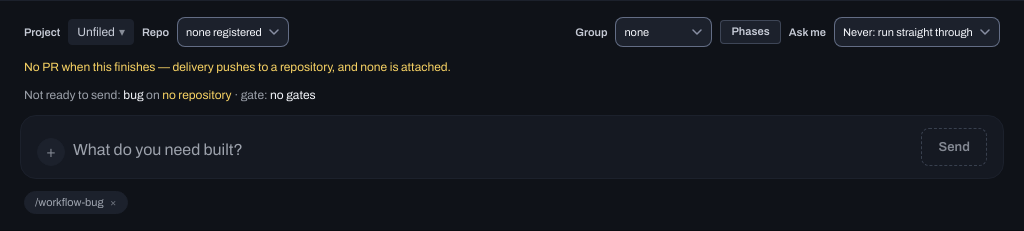
Test case: MED-2b/2c — ChatInput: revisesPr gating and the F-089 no-repo shape › F-089: a BUILD workflow bound with NO repository attached — Send is ENABLED and the line says "Ready to send" (they never disagree)
The image size is (1024, 231).
Type "fix the flaky retry test" into the text box with test id "launch-problem" at point(493, 152), box [73,138,914,166]
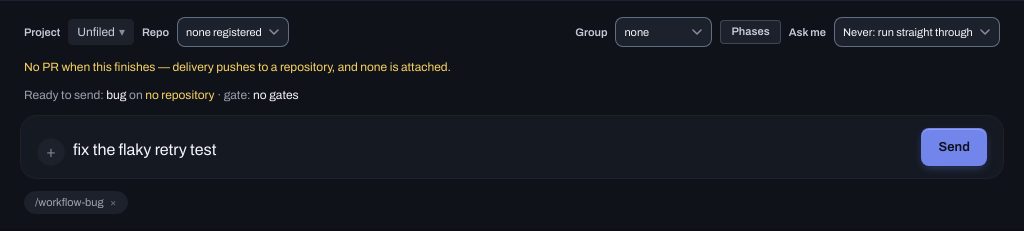
Expected: the element with test id "launch-confirm" shows "no repository", [145,88,215,102]
Result: the button with test id "launch-submit" is enabled at [922,128,987,166]
Result: the element with test id "launch-confirm" shows "Ready to send:" at [24,88,106,102]
Note: and the converse: an empty intent ⇒ Send disabled AND "Not ready" — the two never disagree
Clear the text box with test id "launch-problem" at point(493, 152), box [73,138,914,166]
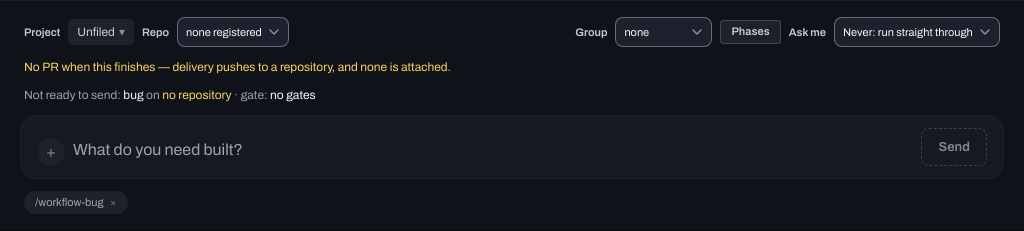
Result: the button with test id "launch-submit" is disabled at [922,128,987,166]
Result: the element with test id "launch-confirm" shows "Not ready to send:" at [24,88,123,102]
